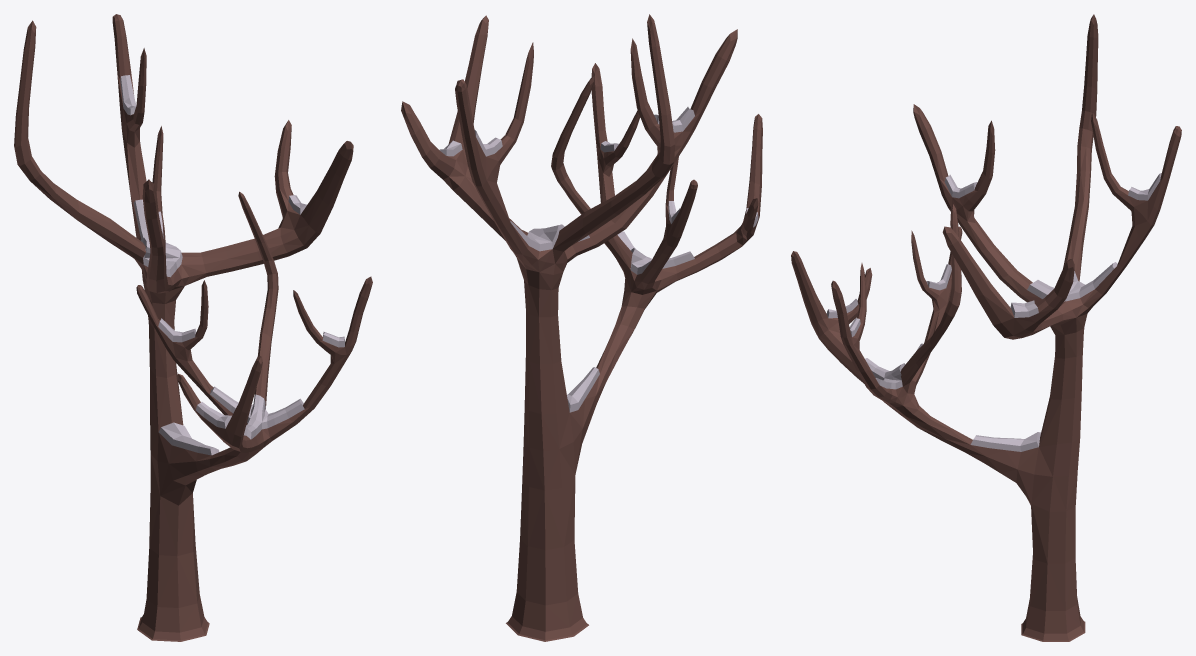
The model's file is CommonTree_Dead_Snow_2.glb.
3 views of the same model, side by side, from view 1: azimuth 30°, elevation 25°; view 2: azimuth 150°, elevation 25°; view 3: azimuth 270°, elevation 25° (orthographic). The views are drawn at different scales.
Parts seen in each view (by area): view 1: Model; view 2: Model; view 3: Model.
Boxes of the visible parts, <box> form: Model: <box>14,14,372,641</box>; Model: <box>401,14,762,641</box>; Model: <box>791,14,1181,641</box>.
Bounding box in the file's own units: 133 × 296 × 186.
